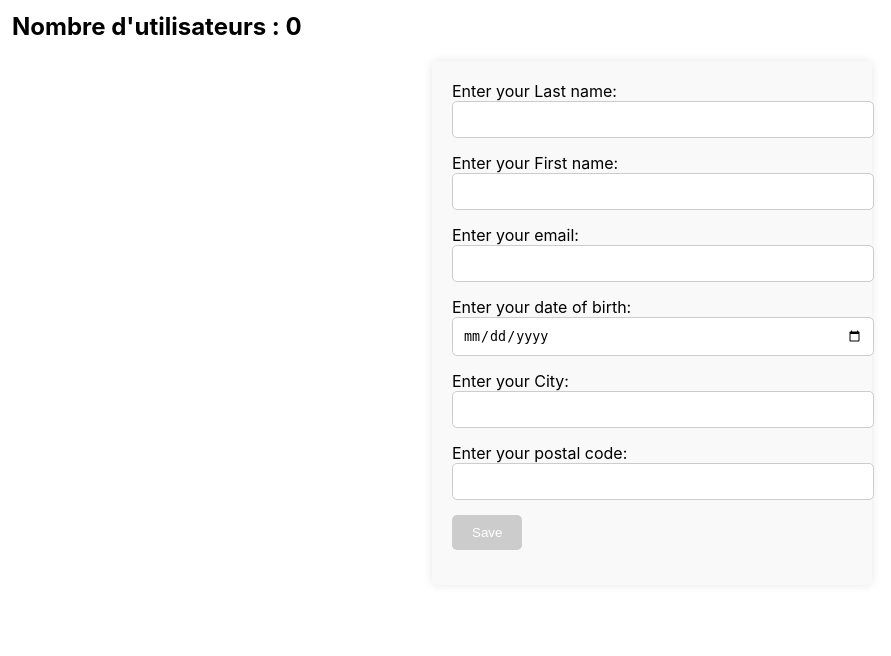
Test: Form › validates first name field
The image size is (891, 656).
# Valid first name
In the field labelled "Enter your First name:": (663, 191) x1=452 y1=173 x2=874 y2=210, type "Élodie"
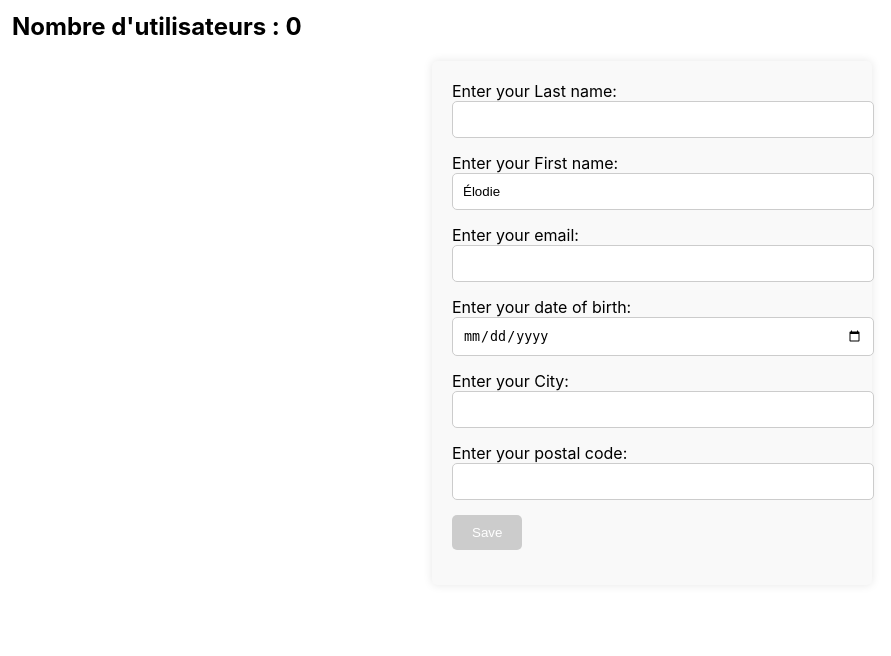
Expected: the text "Le prénom ne doit contenir que des lettres, accents ou tirets." is not shown
# Invalid first name
Replace the text in the field labelled "Enter your First name:" with "Jean@!": (663, 191) x1=452 y1=173 x2=874 y2=210
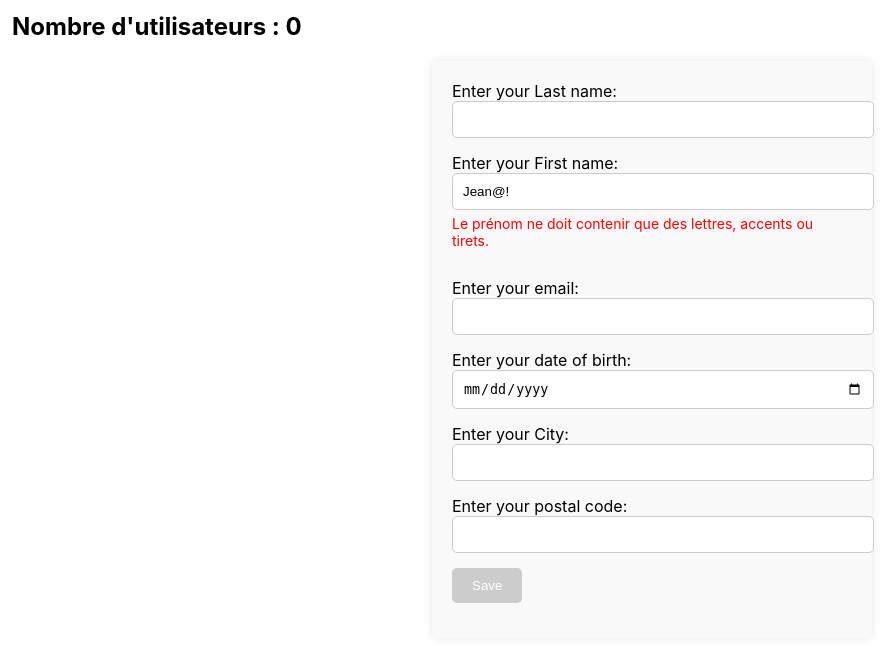
Result: the text "Le prénom ne doit contenir que des lettres, accents ou tirets." is shown at x1=452 y1=215 x2=852 y2=249
